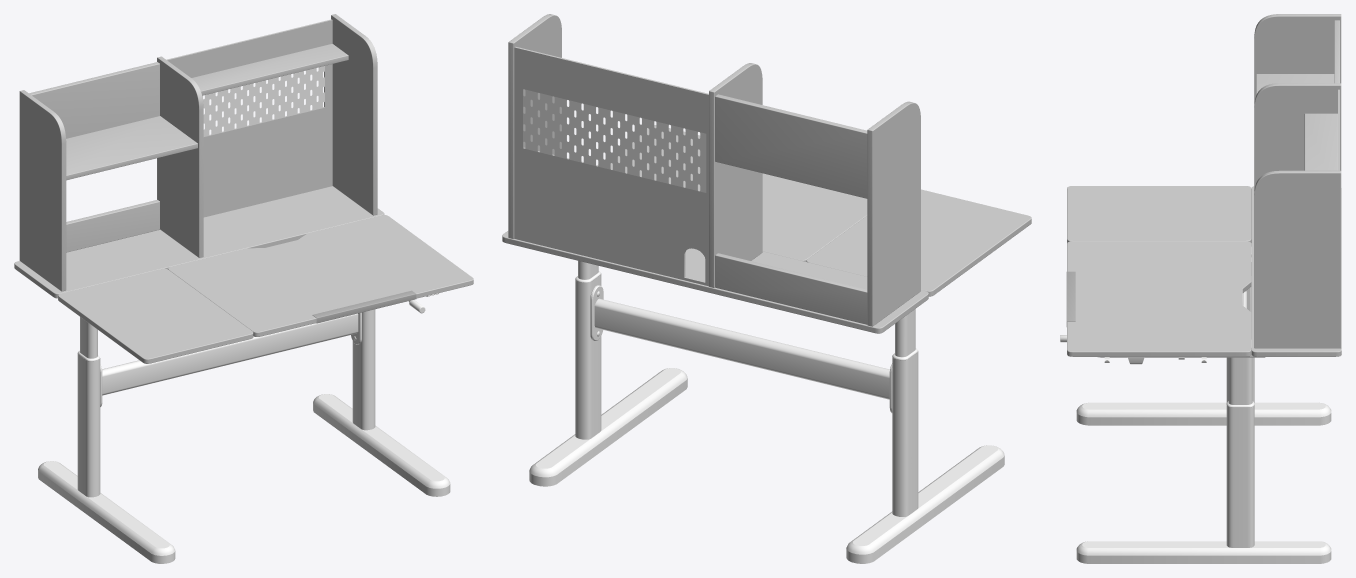
The model's file is berglarka_biurko_79566482.glb.
3 views of the same model, side by side, from view 1: azimuth 30°, elevation 25°; view 2: azimuth 150°, elevation 25°; view 3: azimuth 270°, elevation 25° (orthographic). The views are drawn at different scales.
Visible parts, largest first — view 1: berglarka_biurko_79566482; view 2: berglarka_biurko_79566482; view 3: berglarka_biurko_79566482.
Boxes of the visible parts, x1,y1,x2,y2 form: berglarka_biurko_79566482: (14, 14, 473, 563); berglarka_biurko_79566482: (502, 14, 1031, 563); berglarka_biurko_79566482: (1060, 14, 1341, 563).
Bounding box in the file's own units: 1 × 1.11 × 0.7161.
Materials: 7 (1 with a texture image).
